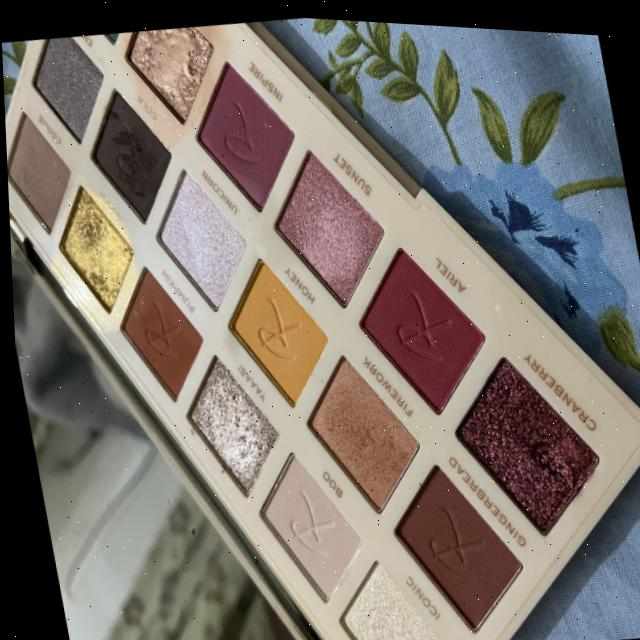eye shade: (192, 269, 640, 612), (67, 68, 470, 428), (0, 0, 326, 236), (315, 537, 458, 640)
